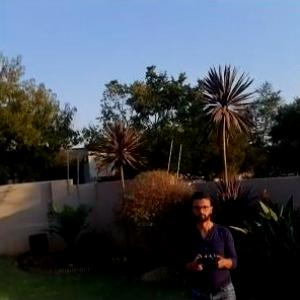follow: (178, 187, 244, 299)
